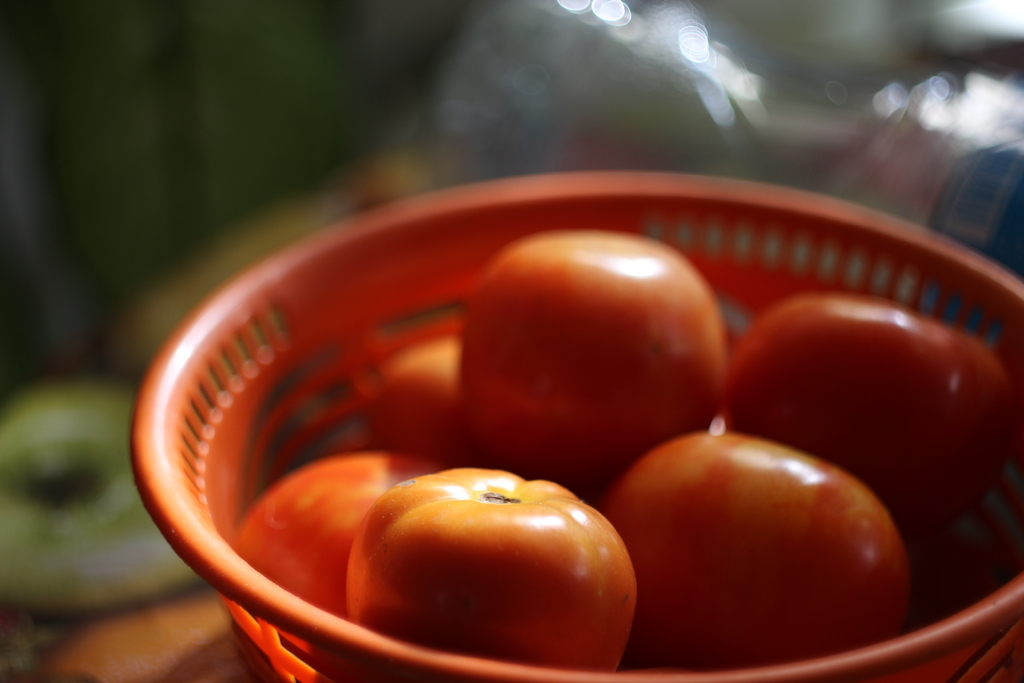Tomato: (599, 426, 912, 661), (723, 293, 1012, 529), (465, 228, 727, 472), (346, 464, 642, 669), (234, 453, 444, 615)
